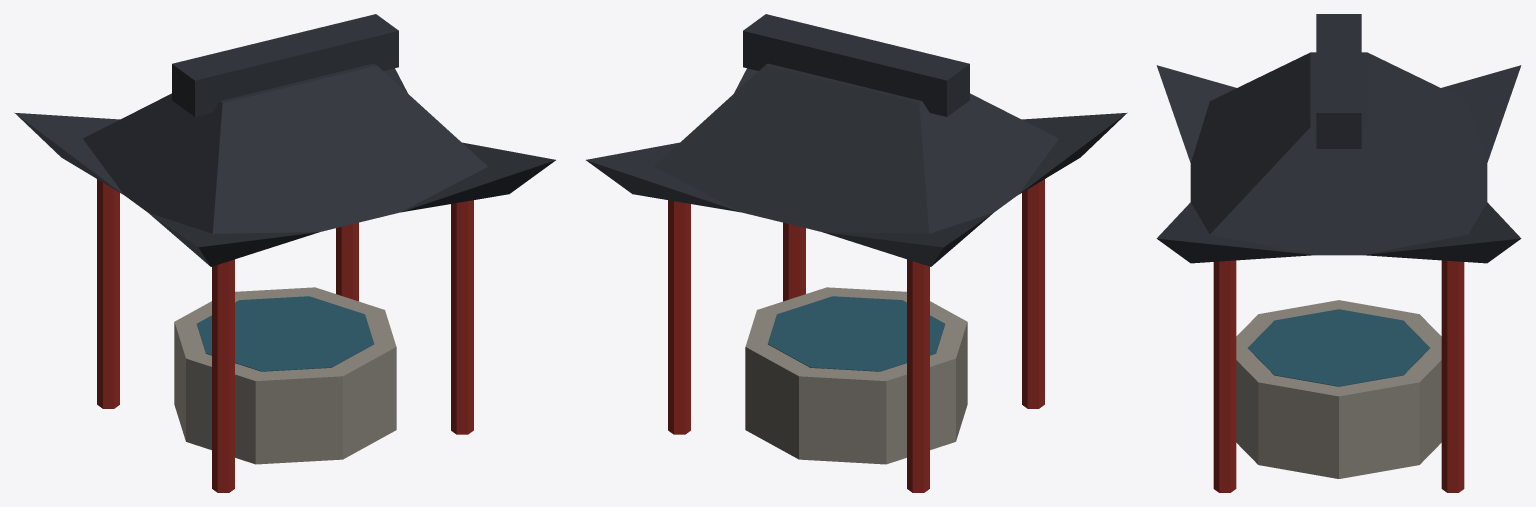
Rendered from well.glb.
The picture shows the model from 3 angles, left to right: view 1: azimuth 30°, elevation 25°; view 2: azimuth 150°, elevation 25°; view 3: azimuth 270°, elevation 25°; orthographic projection.
Visible parts, largest first — view 1: Well; view 2: Well; view 3: Well.
Part boxes in pixels (left/top/right/bottom): Well: left=14, top=14, right=555, bottom=492; Well: left=586, top=14, right=1127, bottom=492; Well: left=1156, top=14, right=1521, bottom=492.
Bounding box in the file's own units: 3.6 × 3.56 × 3.2.
